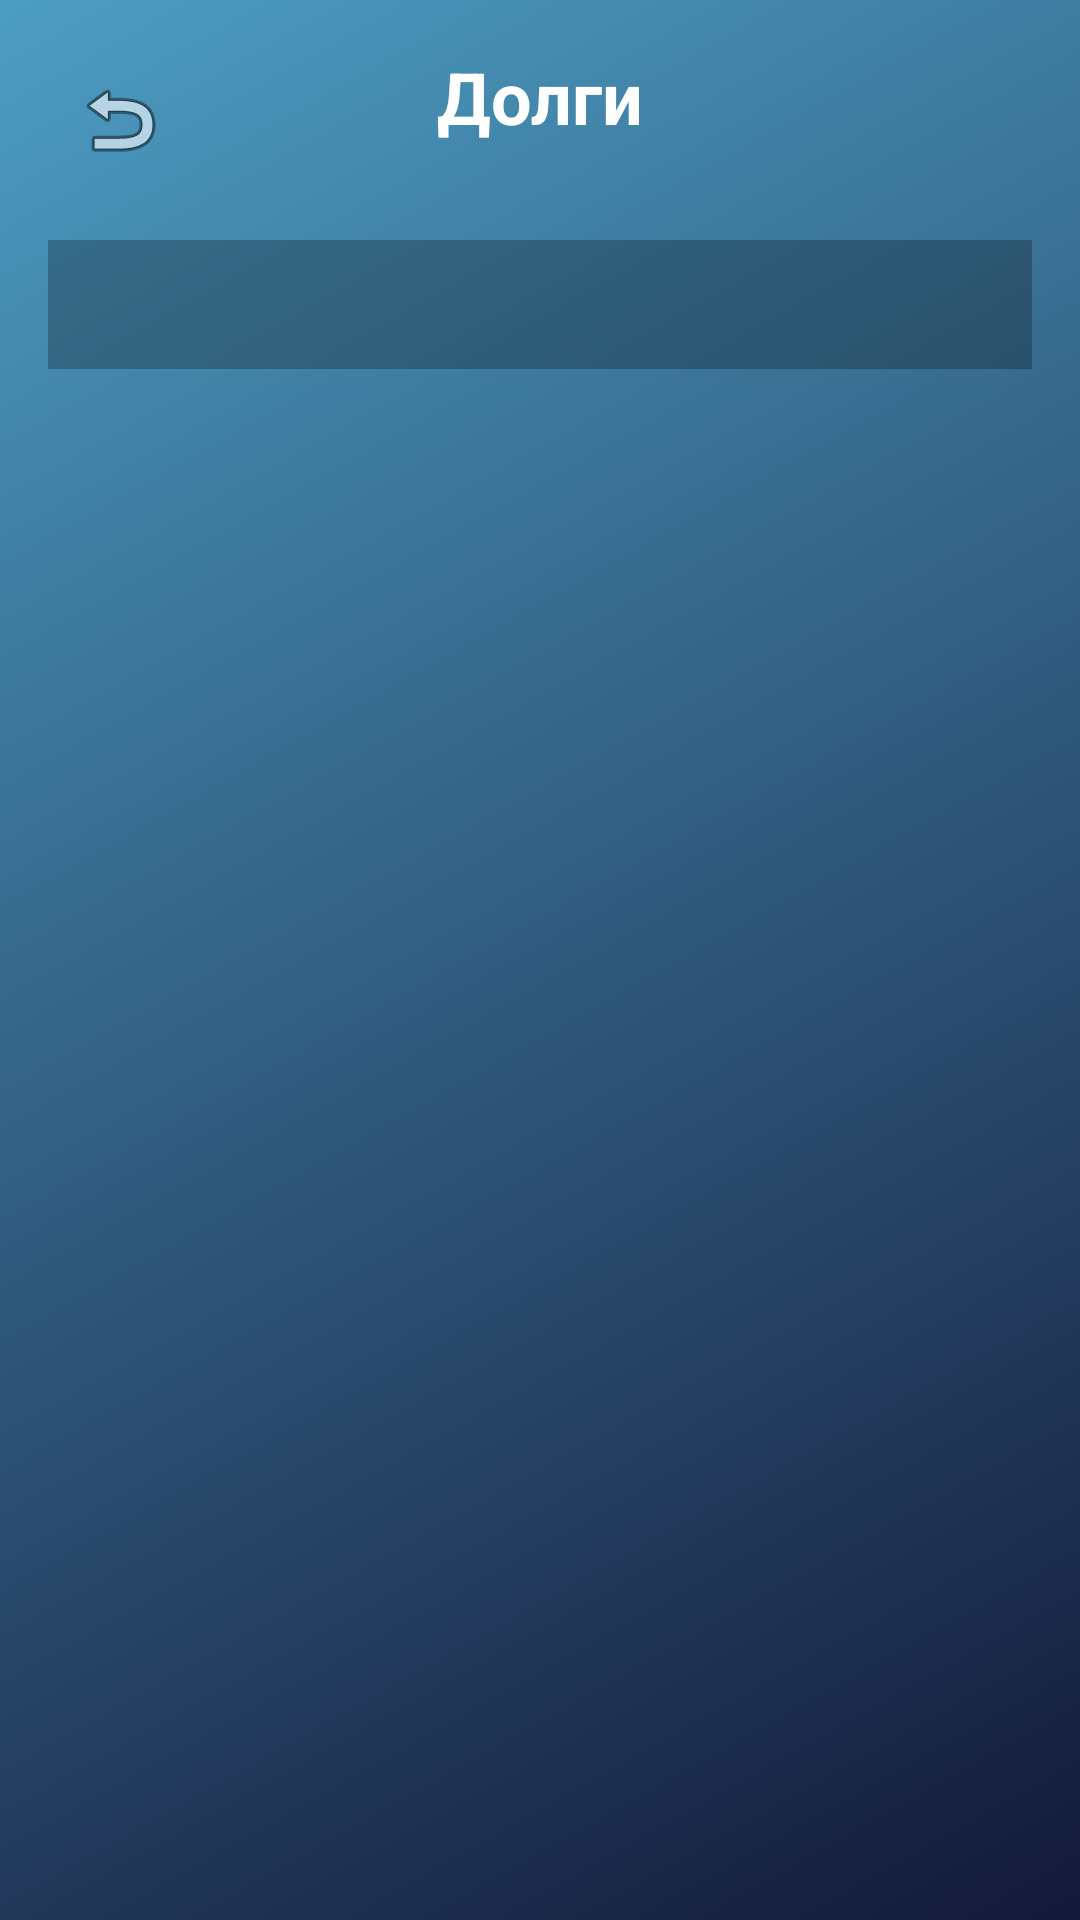

Icons on this 1080 × 1920 Android screen, each with the point to tap as (x=x, y=y):
Назад: (x=121, y=120)
